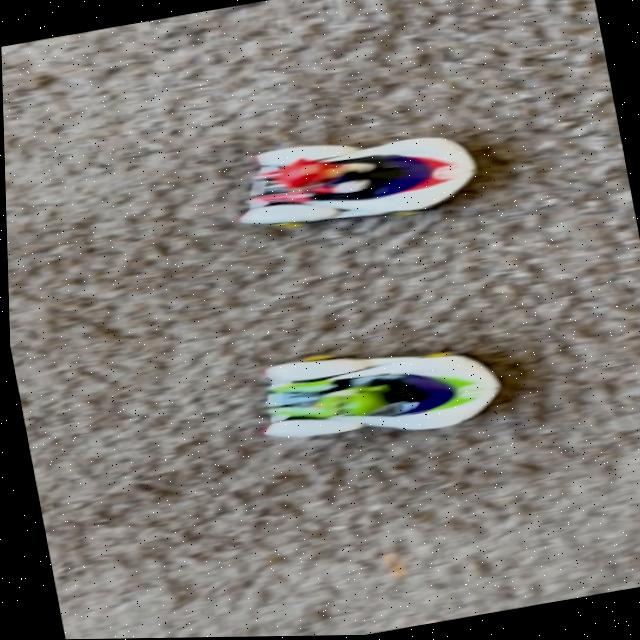mario: (221, 111, 492, 248)
yoshi: (222, 327, 523, 475)
